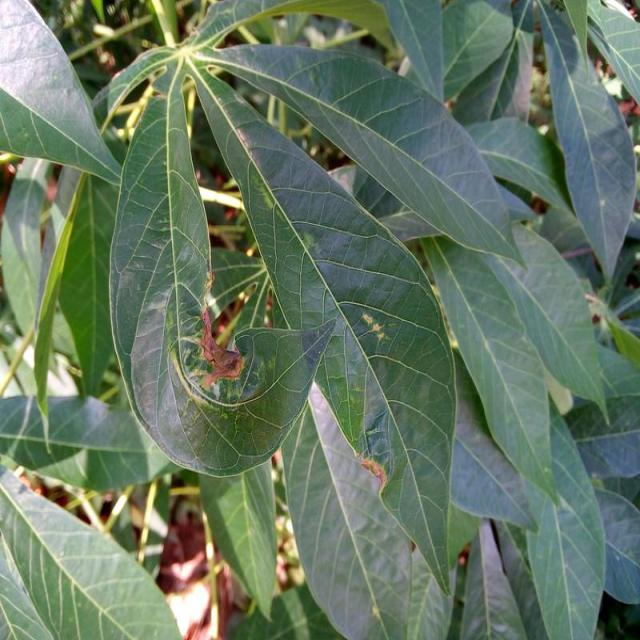cassava leaf: (0, 1, 638, 638), (185, 53, 460, 596), (106, 64, 336, 478)
